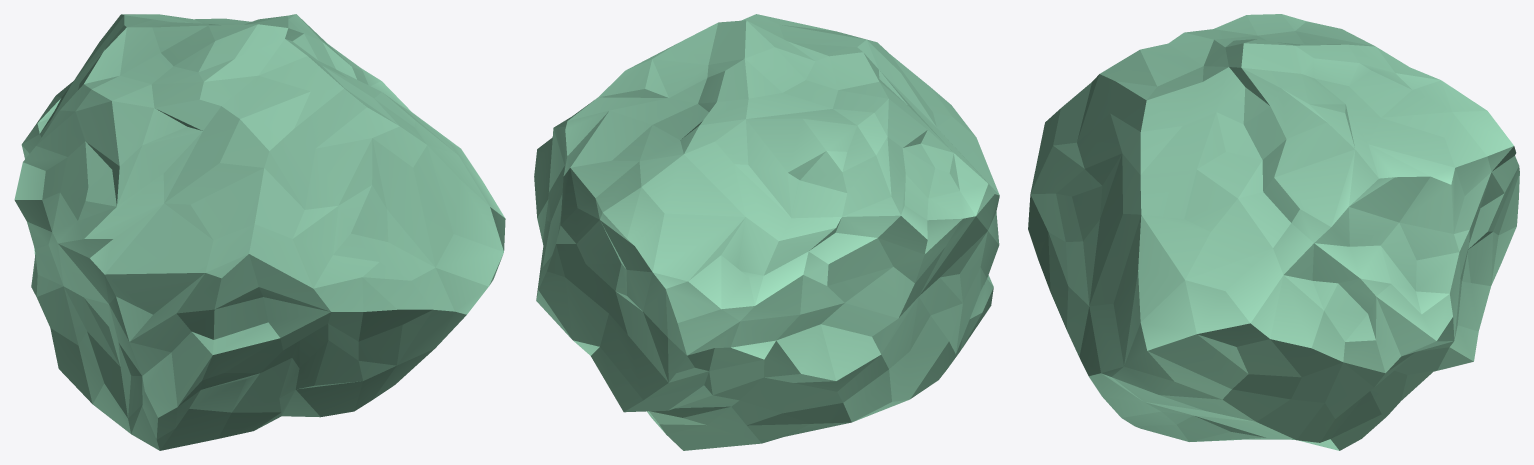
File: snowparticle_anim_3_6_neg1.glb
3 renders of one model, left to right at view 1: azimuth 30°, elevation 25°; view 2: azimuth 150°, elevation 25°; view 3: azimuth 270°, elevation 25°, orthographic.
Parts seen in each view (by area): view 1: snowparticle_anim_3_6_neg1; view 2: snowparticle_anim_3_6_neg1; view 3: snowparticle_anim_3_6_neg1.
Part boxes in pixels (bbox=[...]): snowparticle_anim_3_6_neg1: bbox=[14, 14, 505, 450]; snowparticle_anim_3_6_neg1: bbox=[534, 14, 999, 450]; snowparticle_anim_3_6_neg1: bbox=[1028, 14, 1519, 450].
Size of the model in its own units: 660 by 593 by 662.
